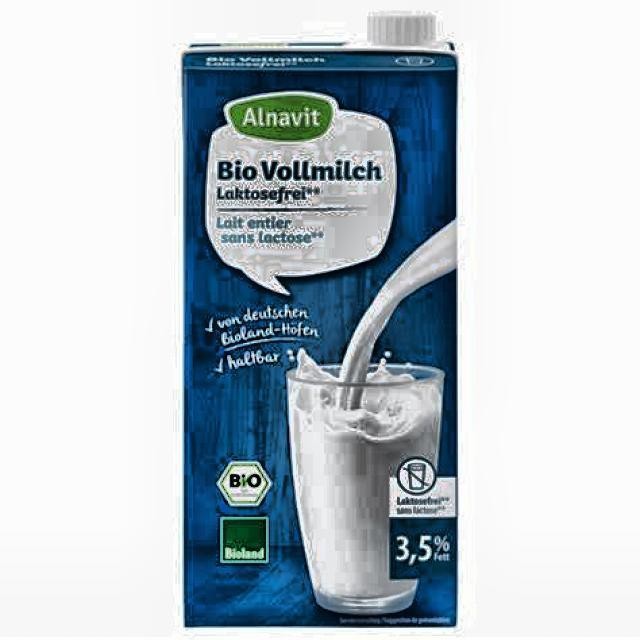cardboard: (181, 30, 459, 628)
